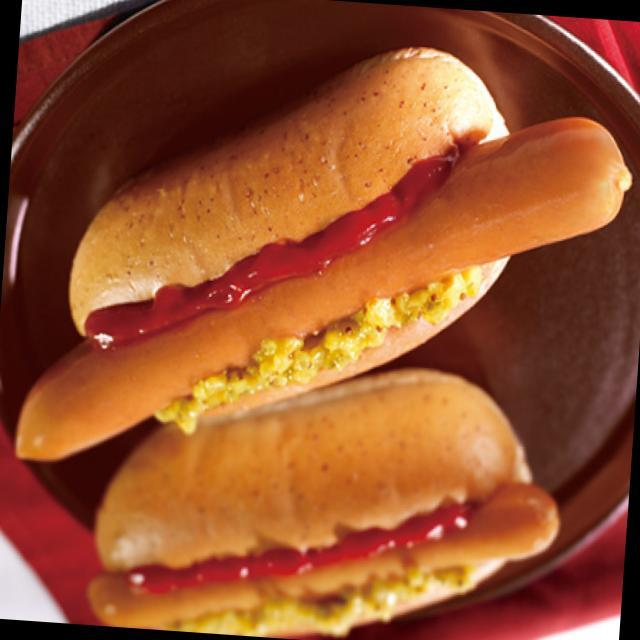Hot Dog: (32, 41, 624, 417), (68, 408, 573, 640)
